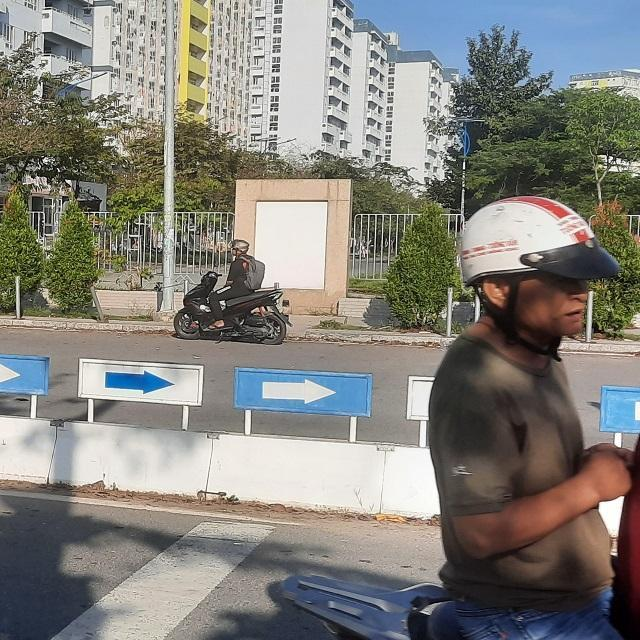Helmet: (457, 194, 615, 350)
